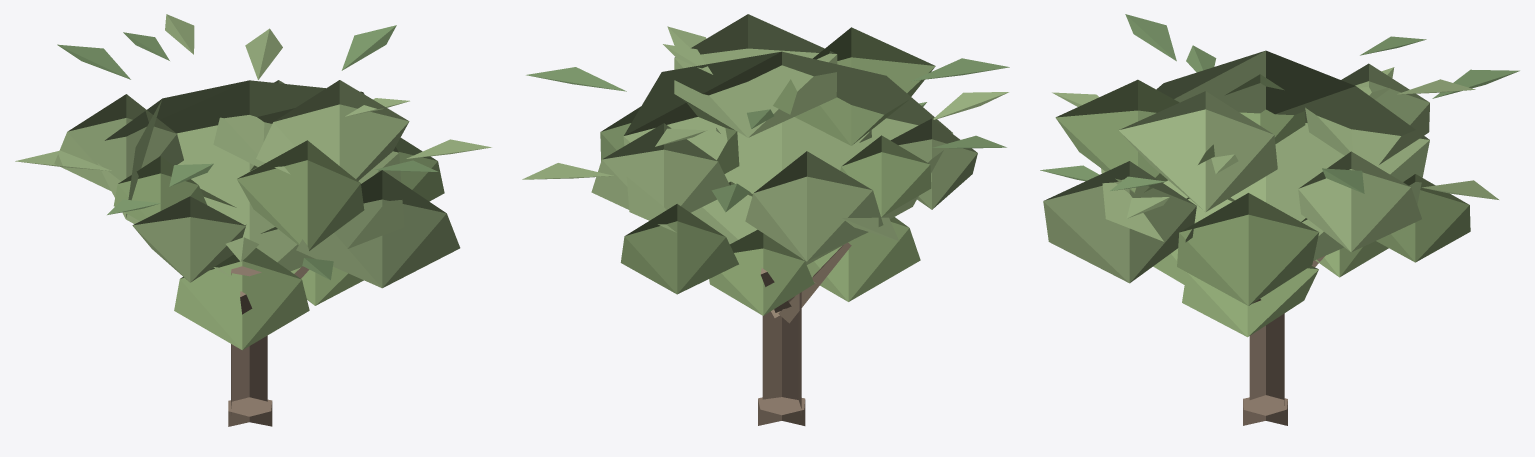
Rendered from shu.mangguo@subadult__summer.glb.
The picture shows the model from 3 angles, left to right: view 1: azimuth 30°, elevation 25°; view 2: azimuth 150°, elevation 25°; view 3: azimuth 270°, elevation 25°; orthographic projection. The views are drawn at different scales.
Visible parts, largest first — view 1: shu.mangguo@subadult__summer; view 2: shu.mangguo@subadult__summer; view 3: shu.mangguo@subadult__summer.
Part boxes in pixels (x1,y1,x2,y2): shu.mangguo@subadult__summer: (15, 14, 491, 426); shu.mangguo@subadult__summer: (522, 14, 1009, 425); shu.mangguo@subadult__summer: (1040, 14, 1519, 425).
Bounding box in the file's own units: 6.83 × 6.27 × 7.37.
